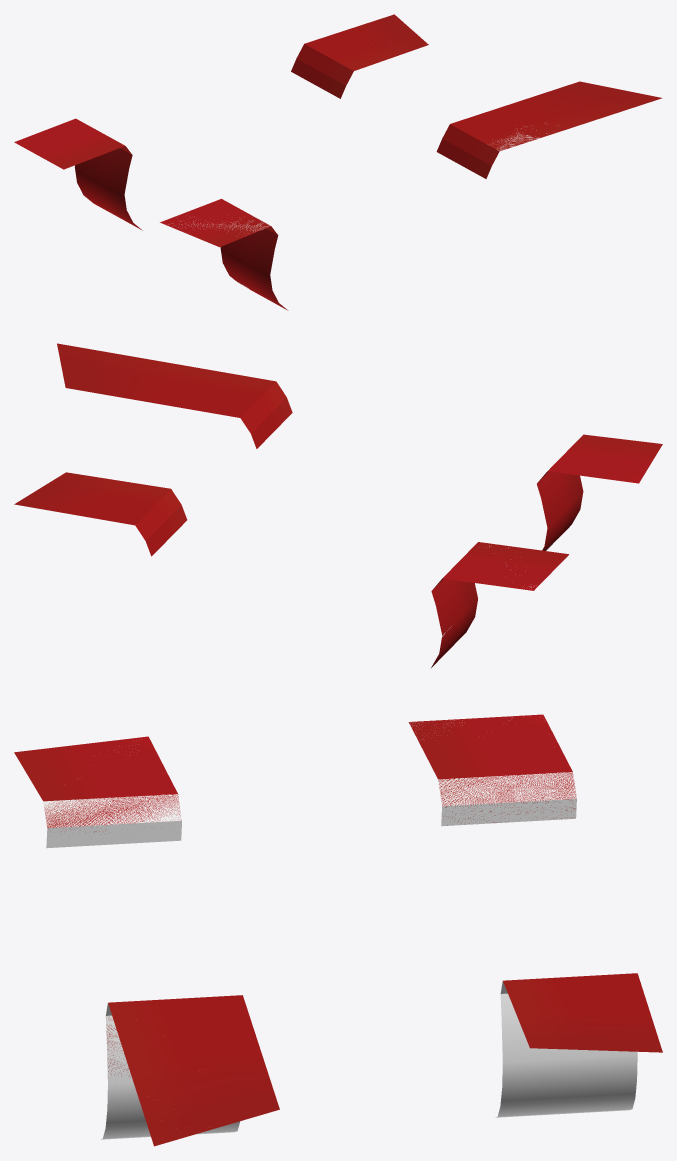
The model's file is blade_pocket_emp_part_tape.glb.
The picture shows the model from 3 angles, top to bottom: view 1: azimuth 30°, elevation 25°; view 2: azimuth 150°, elevation 25°; view 3: azimuth 270°, elevation 25°; orthographic projection. The views are drawn at different scales.
Visible parts, largest first — view 1: g_tape; view 2: g_tape; view 3: g_tape, o_tape.
Boxes of the visible parts, x1,y1,x2,y2 form: g_tape: [14, 14, 662, 310]; g_tape: [14, 343, 662, 667]; g_tape: [14, 714, 662, 1146]; o_tape: [43, 717, 637, 1139].
Size of the model in its own units: 0.2146 by 0.0392 by 0.1363.
Materials: 2 (1 with a texture image).
